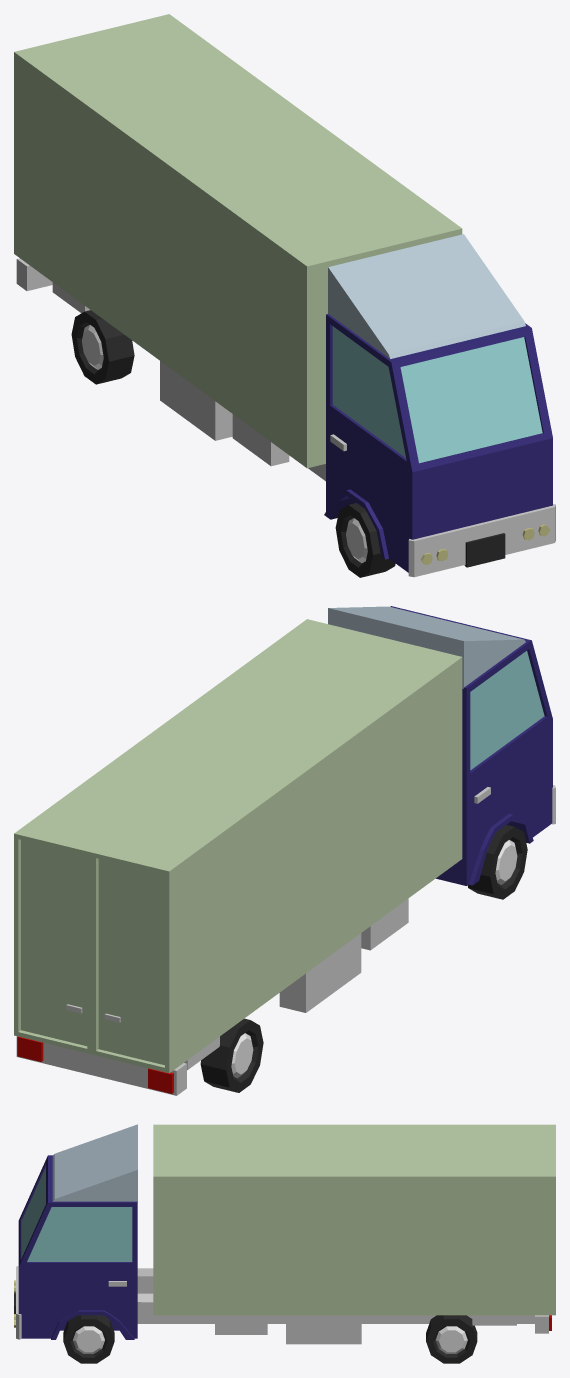
Rendered from Car3.fbx.
3 views of the same model, one above another, from view 1: azimuth 30°, elevation 25°; view 2: azimuth 150°, elevation 25°; view 3: azimuth 270°, elevation 25° (orthographic). The views are drawn at different scales.
Visible parts, largest first — view 1: Cube.004, Cube.002, Cylinder.002, Cylinder.003; view 2: Cube.004, Cube.002, Cylinder.002, Cylinder.003; view 3: Cube.004, Cube.002, Cylinder.001, Cylinder.
Part boxes in pixels (x1,y1,x2,y2): Cube.004: (14, 14, 462, 481); Cube.002: (324, 234, 555, 577); Cylinder.002: (71, 310, 134, 384); Cylinder.003: (335, 503, 395, 577); Cube.004: (14, 619, 462, 1095); Cube.002: (328, 606, 555, 885); Cylinder.002: (200, 1018, 263, 1092); Cylinder.003: (467, 825, 527, 899); Cube.004: (137, 1124, 555, 1344); Cube.002: (14, 1124, 137, 1339); Cylinder.001: (426, 1315, 477, 1363); Cylinder: (63, 1315, 114, 1363).
Bounding box in the file's own units: 92.85 × 154 × 397.
